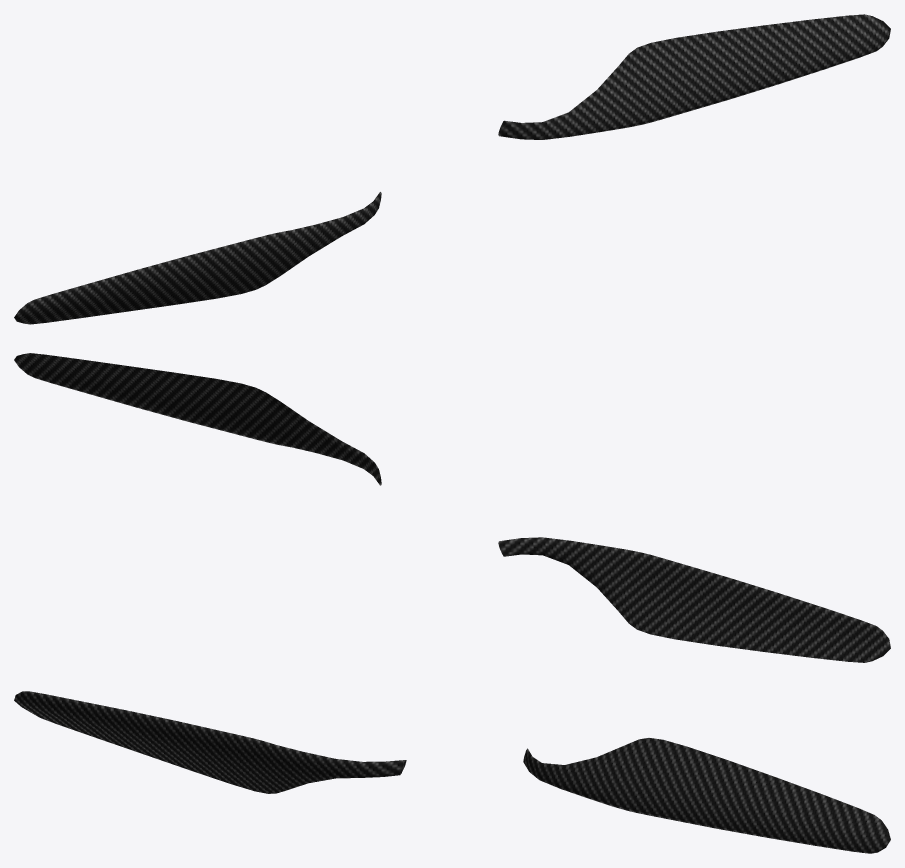
Rendered from p4_prop_left_outer.obj.
3 views of the same model, one above another, from view 1: azimuth 30°, elevation 25°; view 2: azimuth 150°, elevation 25°; view 3: azimuth 330°, elevation 25° (orthographic).
Parts seen in each view (by area): view 1: mesh_6_Line027_Material_#51_0, mesh_7_Line028_Material_#51_0; view 2: mesh_7_Line028_Material_#51_0, mesh_6_Line027_Material_#51_0; view 3: mesh_6_Line027_Material_#51_0, mesh_7_Line028_Material_#51_0.
Part boxes in pixels (x1,y1,x2,y2): mesh_6_Line027_Material_#51_0: [498, 14, 890, 139]; mesh_7_Line028_Material_#51_0: [14, 192, 381, 324]; mesh_7_Line028_Material_#51_0: [498, 537, 890, 662]; mesh_6_Line027_Material_#51_0: [14, 353, 381, 485]; mesh_6_Line027_Material_#51_0: [523, 738, 890, 853]; mesh_7_Line028_Material_#51_0: [14, 691, 406, 793].
Size of the model in its own units: 0.5916 by 0.0975 by 0.0255.
1 material, 1 textured.
